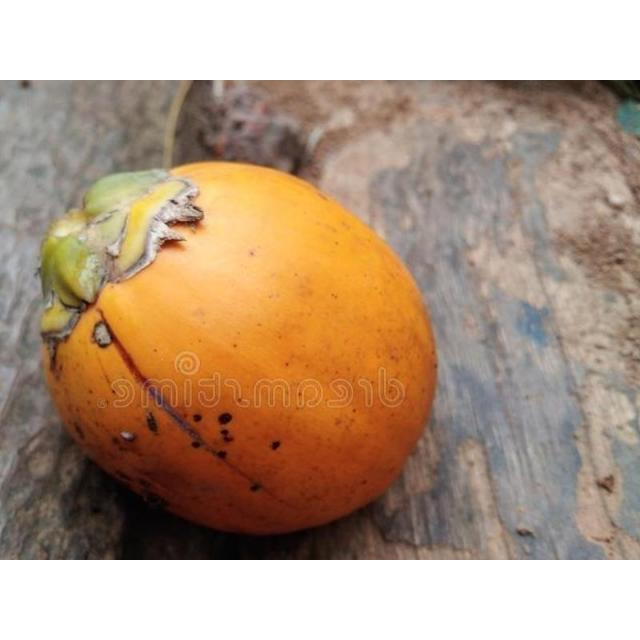good: (36, 161, 441, 539)
